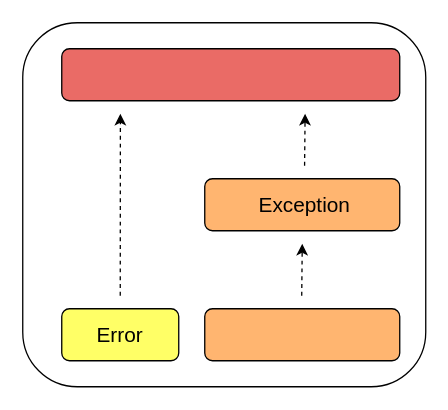
The diagram is 448 pixels wide and 410 high, and some of its shapes have lost their labels. The shapes that lost their labels are listed below. From the top down, each one's box as (x1, y1, x2, y2) in pixels, then its label:
(60, 47, 400, 101): Throwable
(203, 307, 400, 361): RuntimeException
